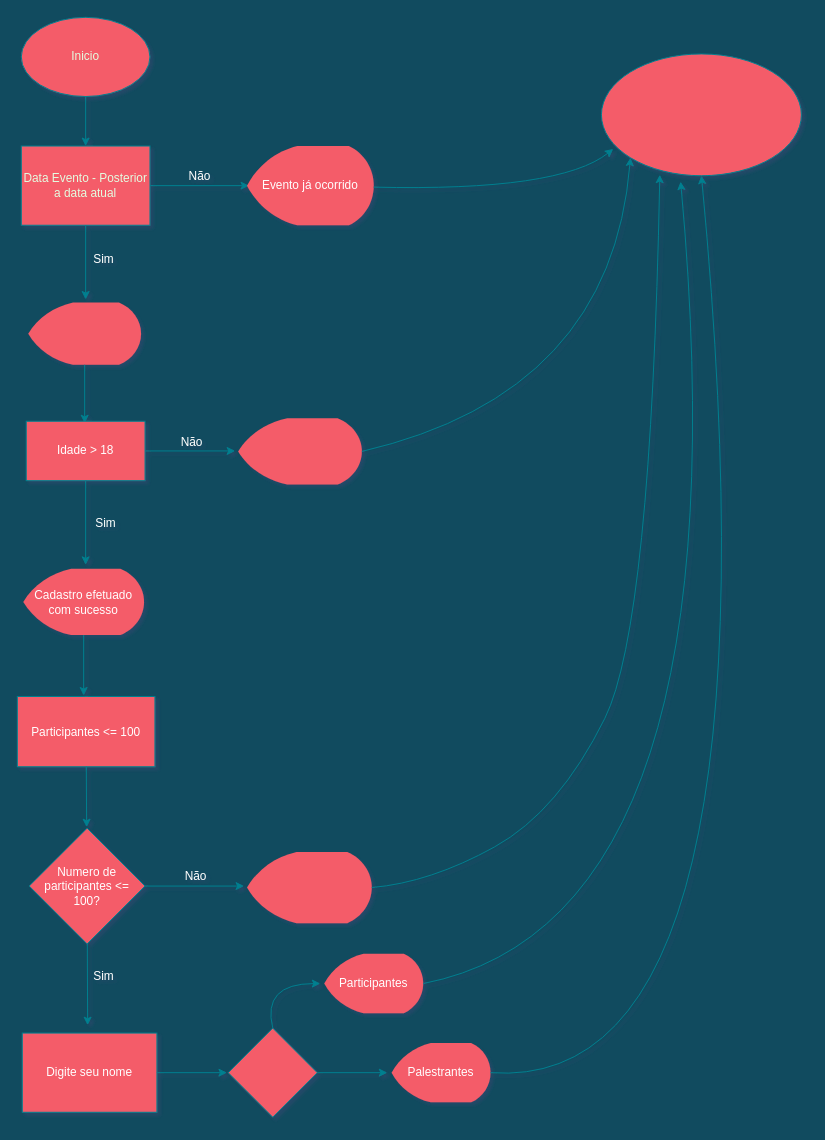
The diagram is 825 pixels wide and 1140 high, and some of its shapes have lost their labels. Here are the shapes that lost their labels. From the top down, the centre of each, then its label:
At point 700,114: "FIM".
At point 84,333: "Informe sua idade".
At point 299,451: "Evento para maiores de 18 anos".
At point 309,887: "Excedeu o limite de cadastros".
At point 272,1072: "Listar?".
